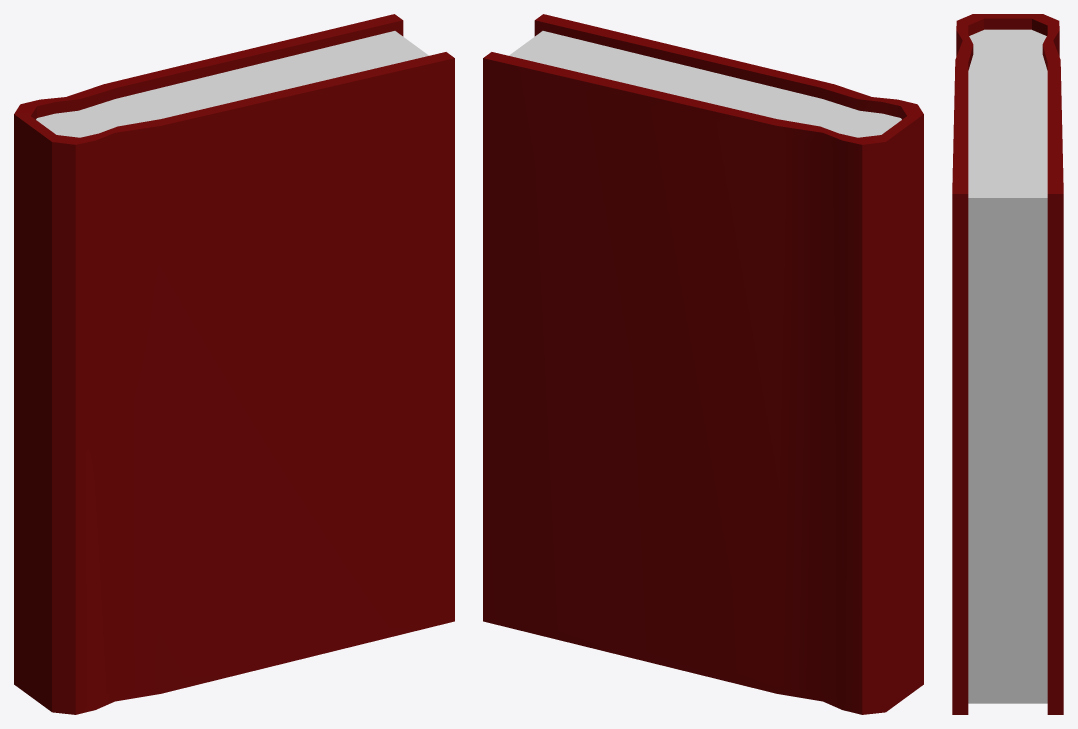
File: book.FBX
3 renders of one model, left to right at view 1: azimuth 30°, elevation 25°; view 2: azimuth 150°, elevation 25°; view 3: azimuth 270°, elevation 25°, orthographic. The views are drawn at different scales.
Visible parts, largest first — view 1: cover, paper; view 2: cover, paper; view 3: paper, cover.
Boxes of the visible parts, <box> form: cover: <box>14,14,454,714</box>; paper: <box>36,31,428,137</box>; cover: <box>483,14,923,714</box>; paper: <box>509,31,901,137</box>; paper: <box>968,29,1047,703</box>; cover: <box>952,14,1063,714</box>.
Size of the model in its own units: 78.75 by 110 by 21.
